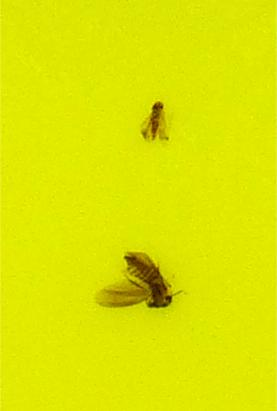Hemiptera: (100, 246, 177, 311), (143, 100, 171, 144)
